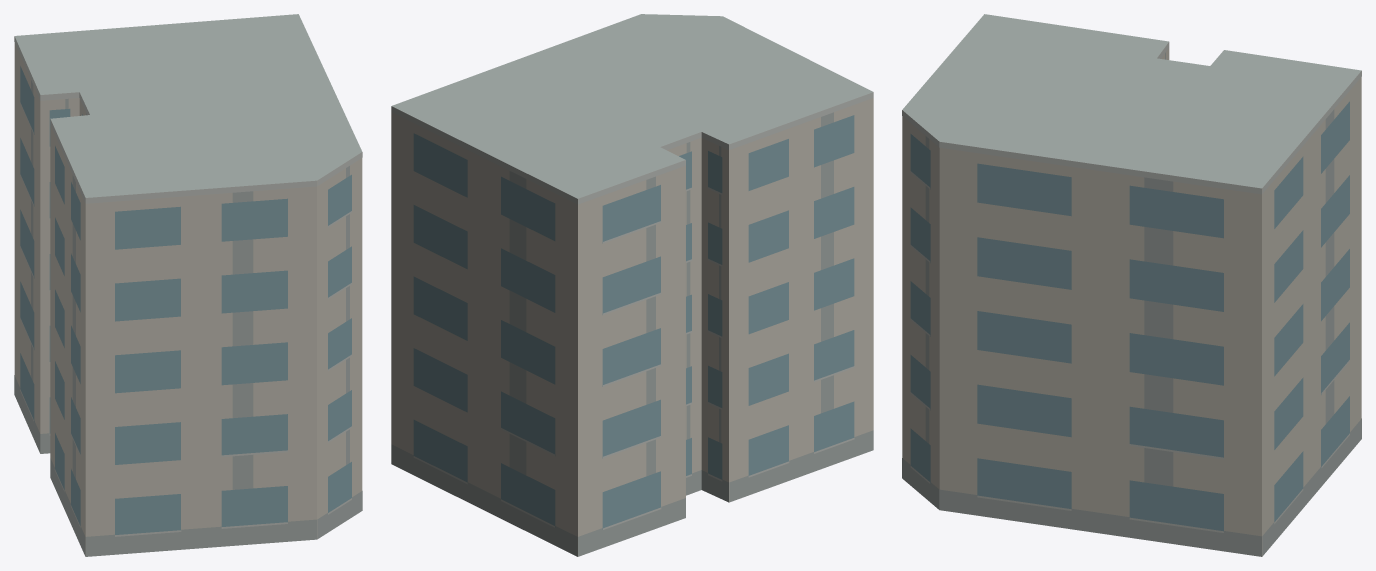
File: survey-upis-33018034.glb
The picture shows the model from 3 angles, left to right: view 1: azimuth 30°, elevation 25°; view 2: azimuth 150°, elevation 25°; view 3: azimuth 270°, elevation 25°; orthographic projection. The views are drawn at different scales.
Visible parts, largest first — view 1: survey-upis-33018034.tmp; view 2: survey-upis-33018034.tmp; view 3: survey-upis-33018034.tmp.
Part boxes in pixels (x1,y1,x2,y2): survey-upis-33018034.tmp: (14,14,362,556); survey-upis-33018034.tmp: (391,14,873,556); survey-upis-33018034.tmp: (902,14,1361,556).
Size of the model in its own units: 15.35 by 15.1 by 17.09.
